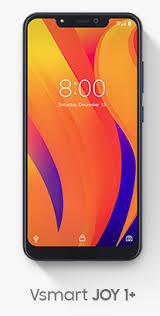vsmart: (17, 5, 146, 265)
